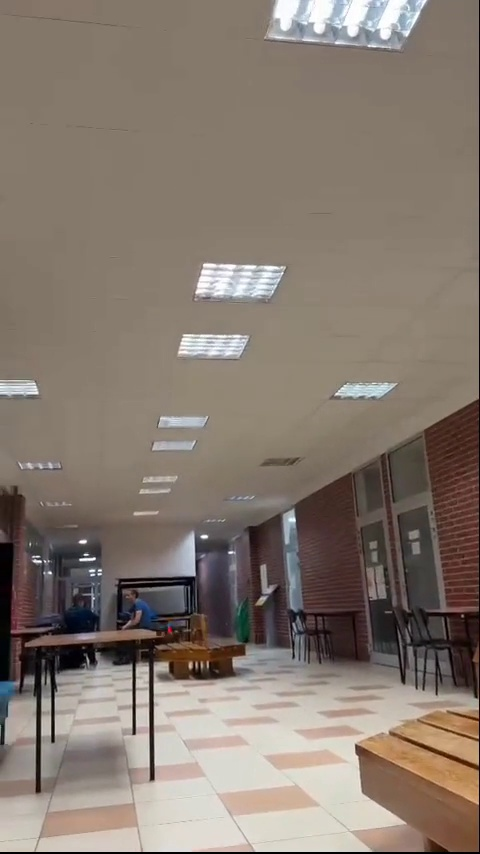drone: (155, 625, 188, 641)
no vest: (119, 585, 153, 630), (64, 595, 99, 635)
